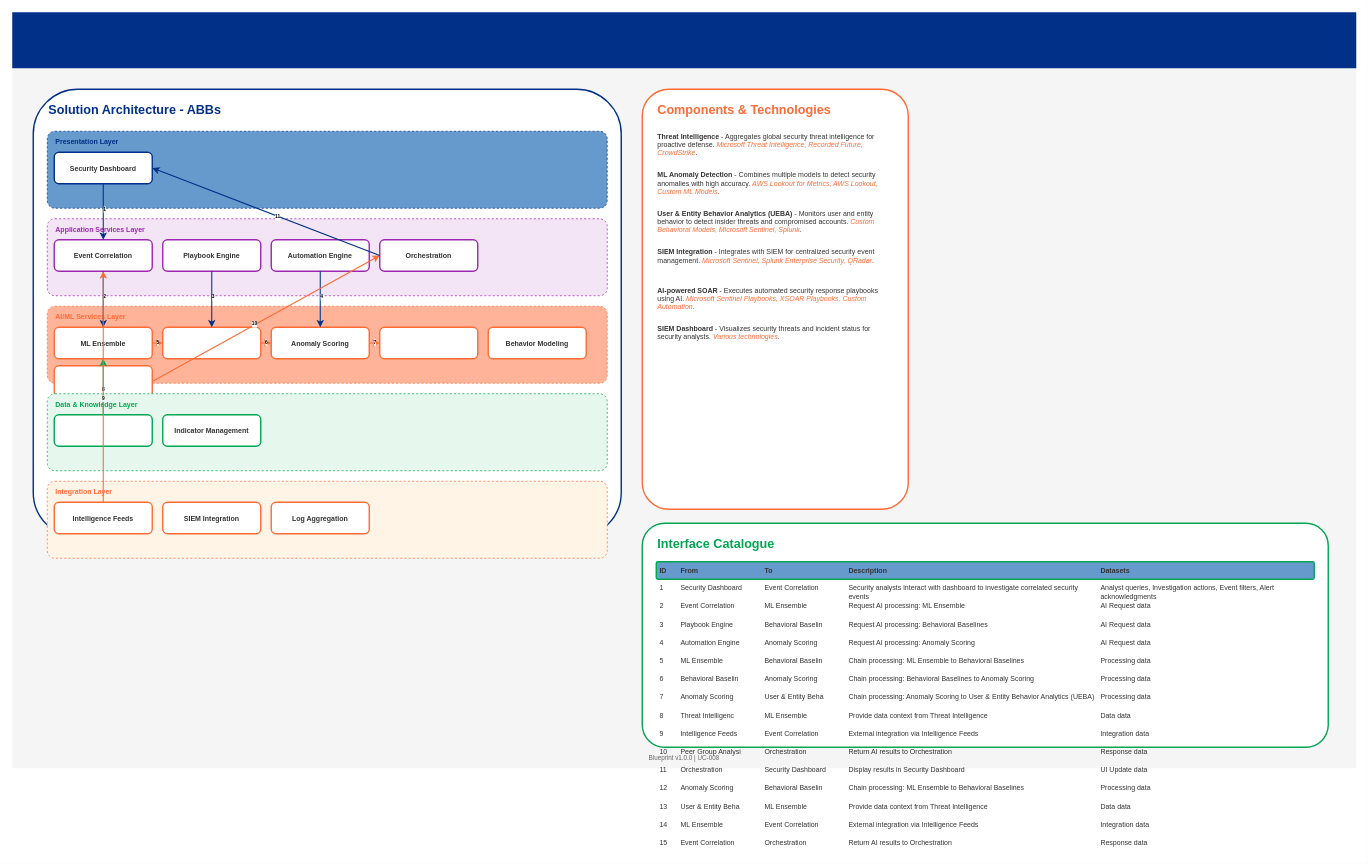
Image size: 1368x864. Some labels were removed from this diagram. Each missing label, with the box of its shape:
Behavioral Baselines: (162, 326, 261, 359)
Peer Group Analysis: (53, 365, 153, 398)
Threat Intelligence: (53, 414, 153, 447)
Use Case Blueprint: UC-008 Security AI: (12, 12, 1356, 68)
User & Entity Behavior Analytics (UEBA): (379, 326, 478, 359)
